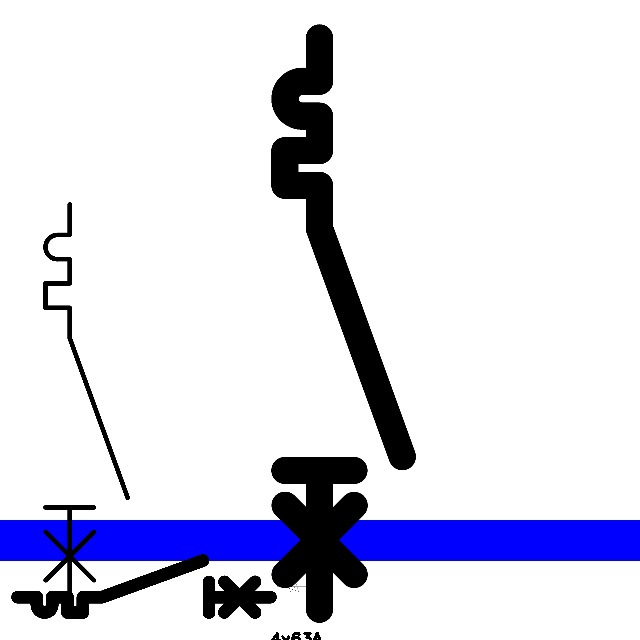interruptor_termomagnetico: (270, 23, 417, 624), (35, 194, 138, 615), (11, 554, 277, 619)
